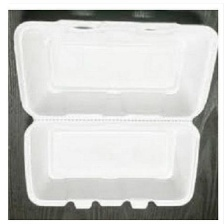foam_box: (10, 13, 218, 213)
